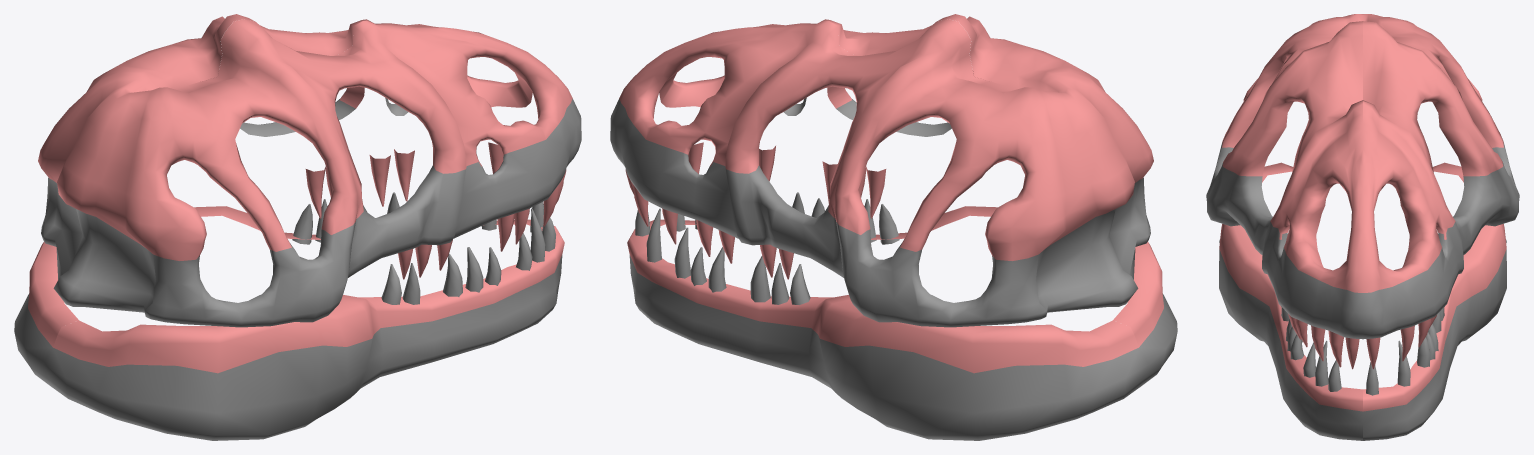
File: PriMT_LandMark3_Saurs001.gltf
3 views of the same model, side by side, from view 1: azimuth 30°, elevation 25°; view 2: azimuth 150°, elevation 25°; view 3: azimuth 270°, elevation 25° (orthographic). The views are drawn at different scales.
Visible parts, largest first — view 1: PriMT_LandMark3_Saurs001; view 2: PriMT_LandMark3_Saurs001; view 3: PriMT_LandMark3_Saurs001.
Part boxes in pixels (box(x1,y1,x2,y2)): PriMT_LandMark3_Saurs001: box(14, 14, 581, 440); PriMT_LandMark3_Saurs001: box(610, 14, 1177, 440); PriMT_LandMark3_Saurs001: box(1206, 14, 1519, 440).
Bounding box in the file's own units: 15.1 × 9.57 × 9.
